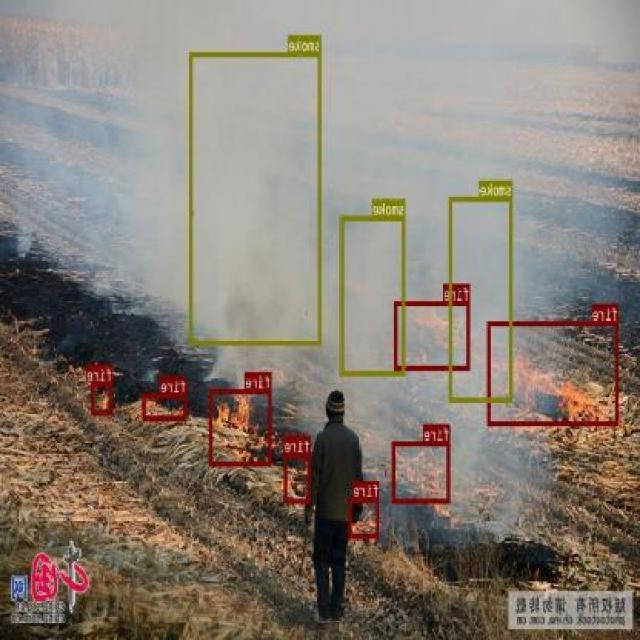Fire: (488, 320, 620, 426), (396, 301, 470, 370), (210, 388, 272, 466), (393, 440, 450, 502), (284, 452, 310, 503), (349, 498, 380, 538), (143, 392, 188, 418), (92, 380, 114, 414)
Smoke: (190, 51, 322, 344), (450, 196, 513, 402), (342, 215, 406, 374)
